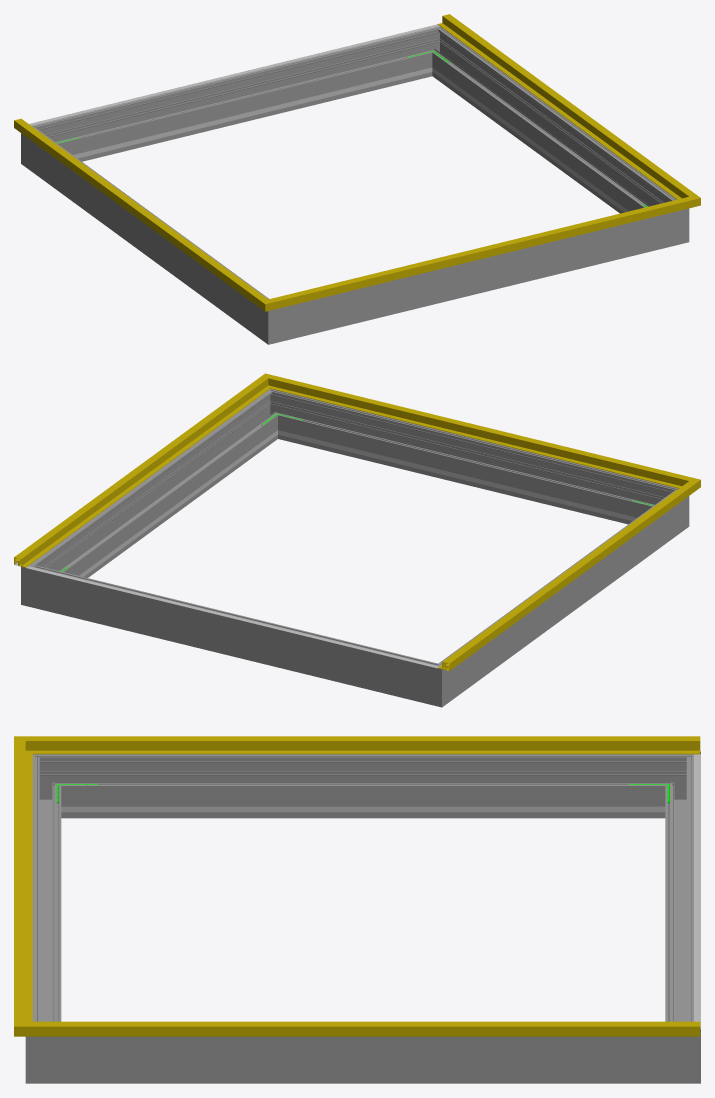
The picture shows the model from 3 angles, top to bottom: view 1: azimuth 30°, elevation 25°; view 2: azimuth 150°, elevation 25°; view 3: azimuth 270°, elevation 25°; orthographic projection. The views are drawn at different scales.
Parts seen in each view (by area): view 1: 3DGeom-276, 3DGeom-298, 3DGeom-297, 3DGeom-268, 3DGeom-123, 3DGeom-128, 3DGeom-118, 3DGeom-244, 3DGeom-270, 3DGeom-220, 3DGeom-284, 3DGeom-290 (+3 smaller); view 2: 3DGeom-298, 3DGeom-276, 3DGeom-297, 3DGeom-268, 3DGeom-123, 3DGeom-128, 3DGeom-118, 3DGeom-278, 3DGeom-239, 3DGeom-220, 3DGeom-284, 3DGeom-290 (+3 smaller); view 3: 3DGeom-268, 3DGeom-297, 3DGeom-118, 3DGeom-128, 3DGeom-298, 3DGeom-276, 3DGeom-123, 3DGeom-232, 3DGeom-290, 3DGeom-284, 3DGeom-220, 3DGeom-270 (+3 smaller).
Boxes of the visible parts, box(x1,y1,x2,y2) form: 3DGeom-276: box(51, 31, 427, 161); 3DGeom-298: box(295, 215, 661, 337); 3DGeom-297: box(435, 36, 668, 213); 3DGeom-268: box(36, 135, 261, 332); 3DGeom-123: box(288, 201, 673, 304); 3DGeom-128: box(437, 14, 684, 196); 3DGeom-118: box(14, 118, 256, 299); 3DGeom-244: box(83, 74, 406, 156); 3DGeom-270: box(252, 293, 295, 344); 3DGeom-220: box(29, 24, 439, 125); 3DGeom-284: box(417, 26, 453, 77); 3DGeom-290: box(662, 194, 689, 248); 3DGeom-298: box(282, 394, 659, 524); 3DGeom-276: box(48, 569, 419, 700); 3DGeom-297: box(41, 398, 275, 577); 3DGeom-268: box(449, 498, 673, 695); 3DGeom-123: box(285, 380, 673, 485); 3DGeom-128: box(14, 385, 261, 567); 3DGeom-118: box(438, 489, 685, 670); 3DGeom-278: box(414, 656, 457, 707); 3DGeom-239: box(304, 436, 627, 519); 3DGeom-220: box(25, 566, 439, 668); 3DGeom-284: box(21, 556, 52, 611); 3DGeom-290: box(257, 389, 292, 440); 3DGeom-268: box(68, 754, 657, 818); 3DGeom-297: box(68, 1036, 657, 1083); 3DGeom-118: box(57, 736, 700, 754); 3DGeom-128: box(57, 1021, 700, 1036); 3DGeom-298: box(32, 769, 61, 1021); 3DGeom-276: box(665, 769, 693, 1021); 3DGeom-123: box(14, 754, 32, 1017); 3DGeom-232: box(103, 806, 623, 812); 3DGeom-290: box(25, 1013, 68, 1083); 3DGeom-284: box(658, 1013, 700, 1083); 3DGeom-220: box(694, 754, 700, 1029); 3DGeom-270: box(32, 754, 68, 818).
Size of the model in its own units: 2.44 by 0.2434 by 2.44.
